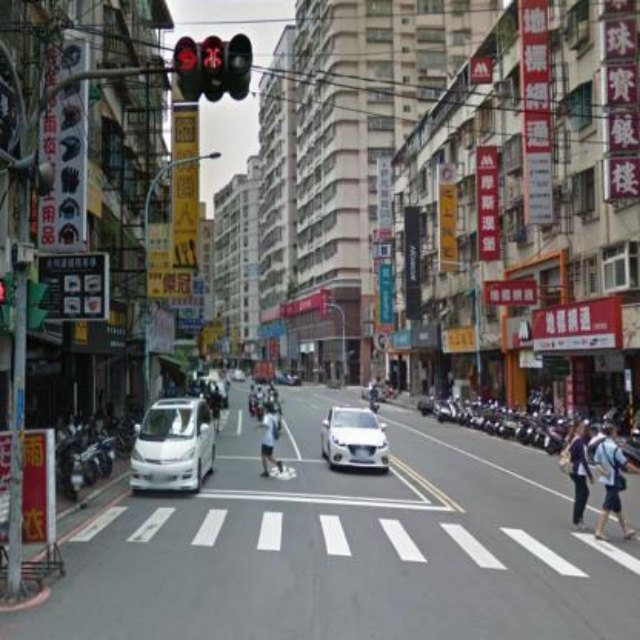Đèn đỏ: (169, 35, 252, 83)
